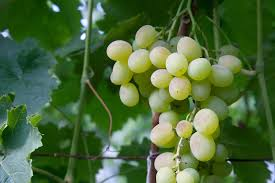grapes: (106, 24, 236, 183)
